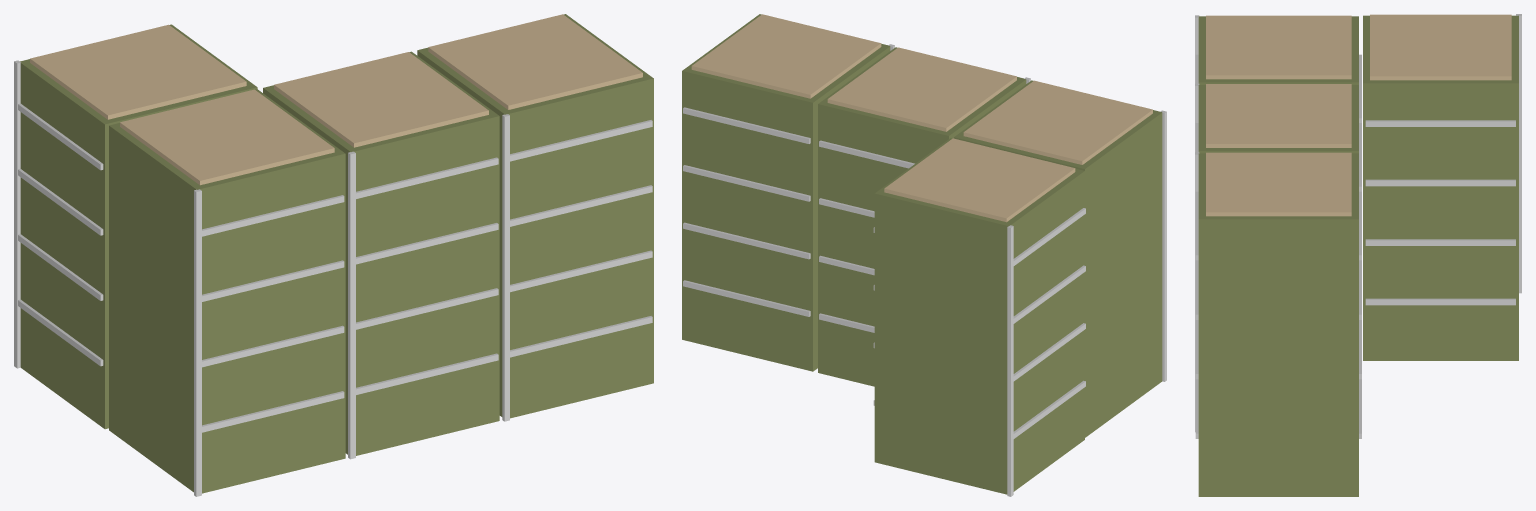
File: SM_HescoRemate_v0_MallaLimpia_e0_Sano_LOD0.fbx
3 renders of one model, left to right at view 1: azimuth 30°, elevation 25°; view 2: azimuth 150°, elevation 25°; view 3: azimuth 270°, elevation 25°, orthographic. The views are drawn at different scales.
Parts seen in each view (by area): view 1: SM_hesco_piezas_v20_LOD0; view 2: SM_hesco_piezas_v20_LOD0; view 3: SM_hesco_piezas_v20_LOD0.
Boxes of the visible parts, x1=… form: SM_hesco_piezas_v20_LOD0: x1=14, y1=14, x2=653, y2=496; SM_hesco_piezas_v20_LOD0: x1=682, y1=14, x2=1166, y2=496; SM_hesco_piezas_v20_LOD0: x1=1195, y1=14, x2=1521, y2=496.
Bounding box in the file's own units: 3.33 × 2.13 × 2.24.
